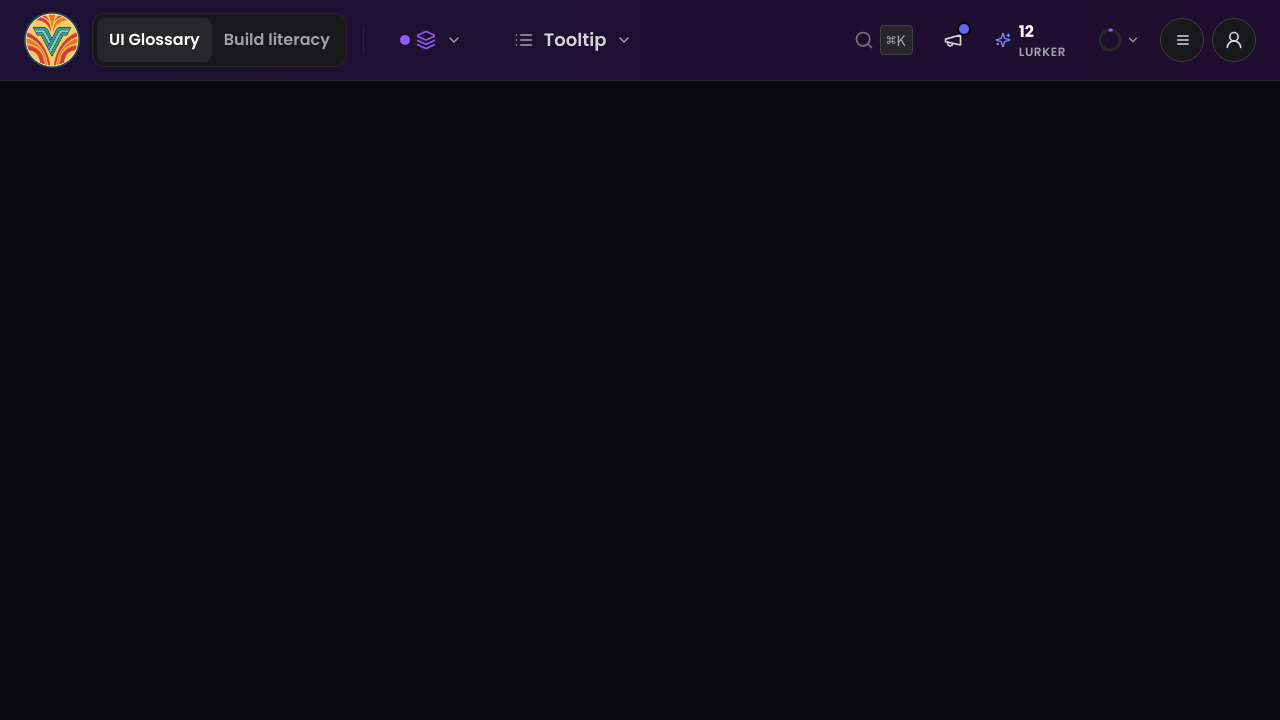
Test: account appearance setting › shows Dark Mode for signed-out visitors and keeps the menu opaque
Click the button named "Sign in. Back up your progress (optional)" at (1234, 40), box left=1212, top=18, right=1256, bottom=62
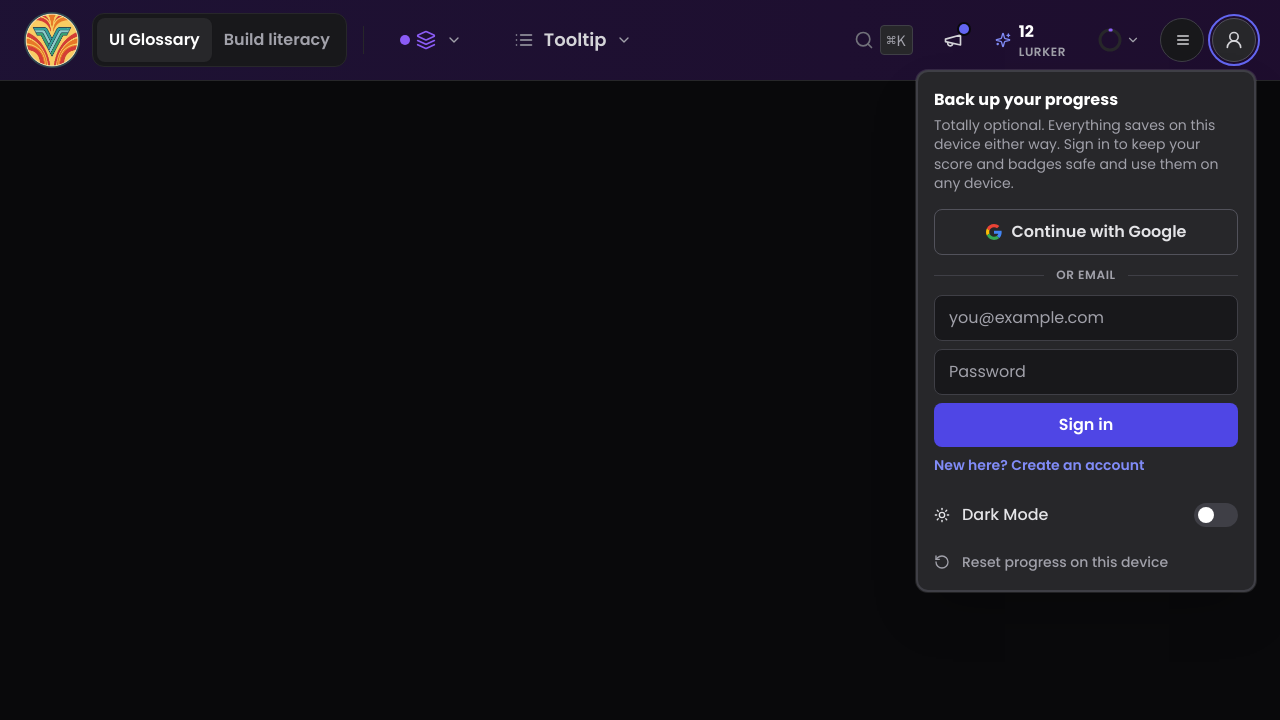
Expected: the text "Dark Mode" is shown, left=962, top=503, right=1048, bottom=527
Click the button "Dark Mode" at (1005, 514), box left=918, top=491, right=1254, bottom=539
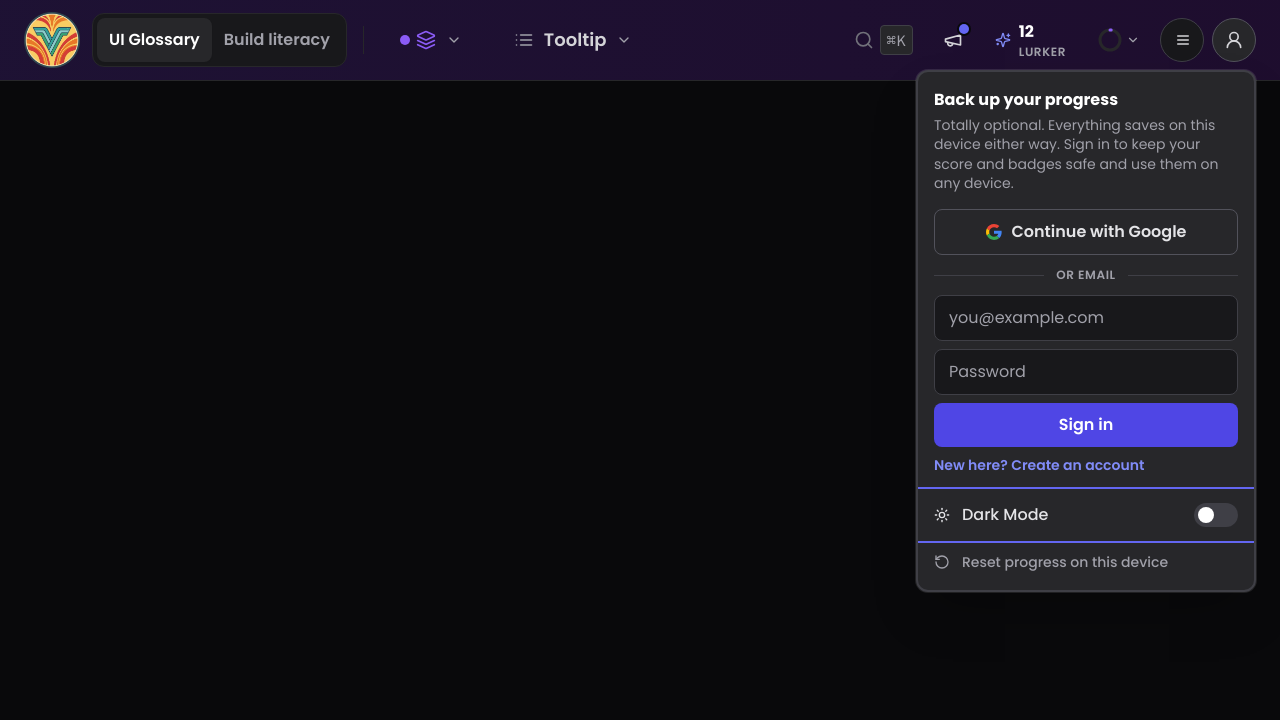
Expected: the text "Dark Mode" is shown, left=962, top=503, right=1048, bottom=527
Press Escape
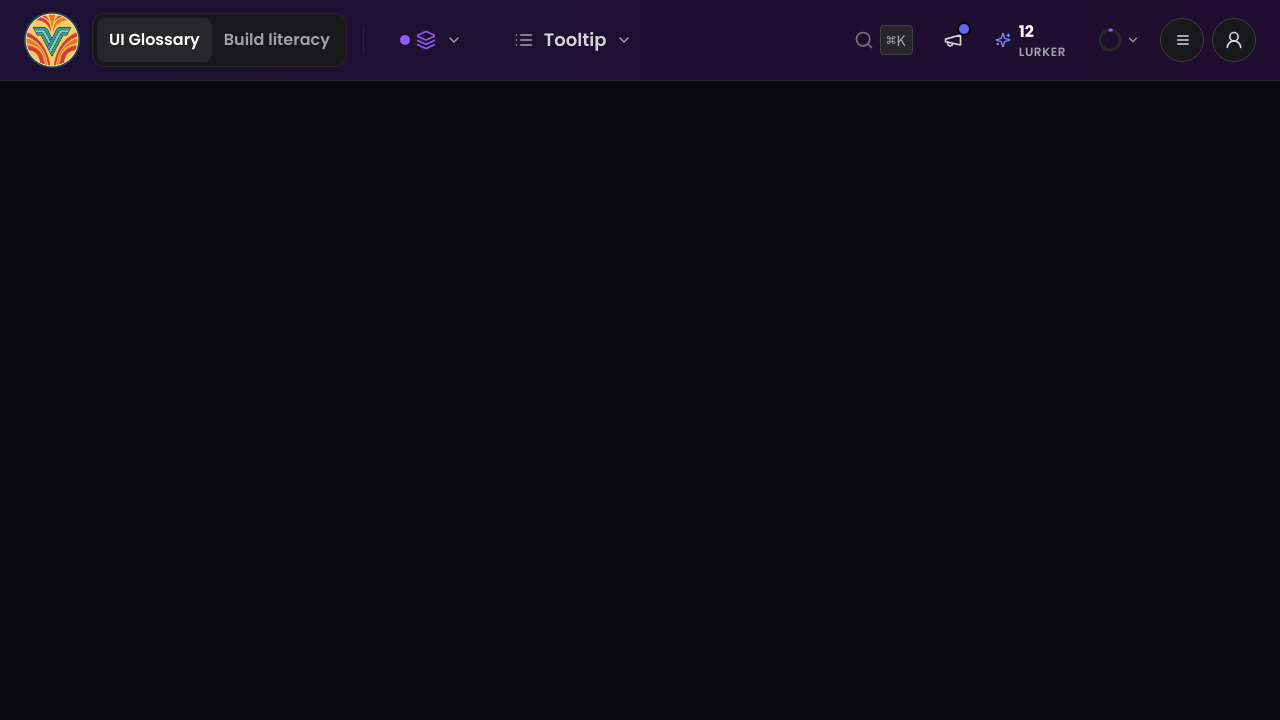
Expected: the button "Dark Mode" is gone
